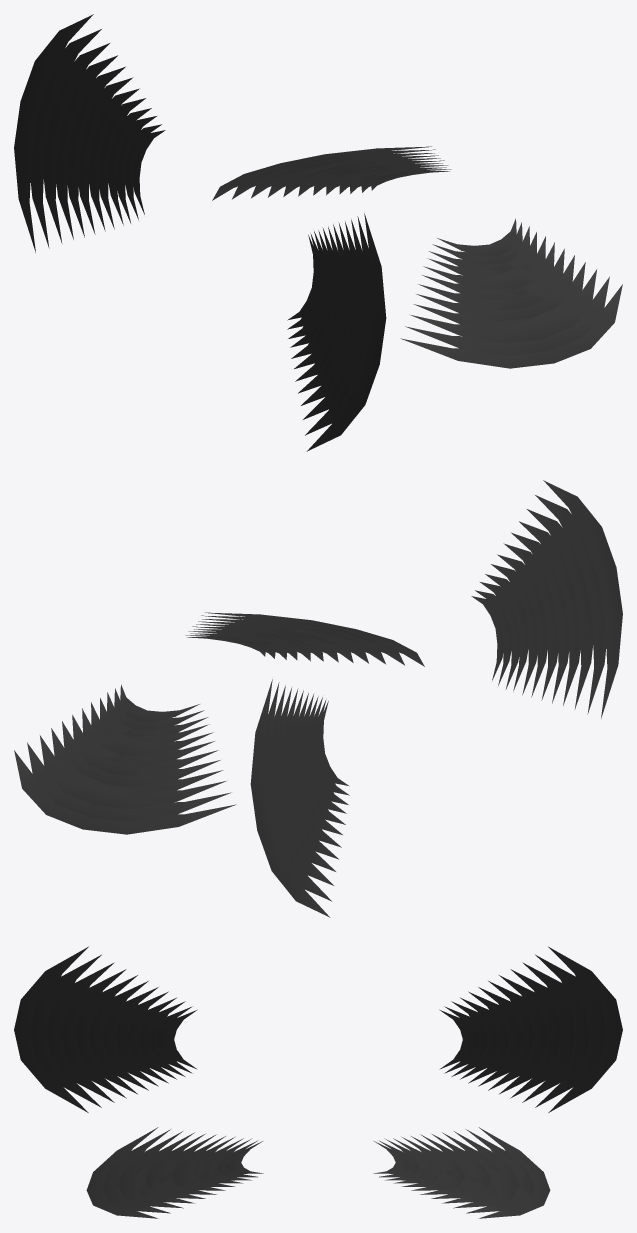
The model's file is StarterPackSoundwaves.glb.
3 views of the same model, one above another, from view 1: azimuth 30°, elevation 25°; view 2: azimuth 150°, elevation 25°; view 3: azimuth 270°, elevation 25° (orthographic). The views are drawn at different scales.
Parts seen in each view (by area): view 1: soundWaveEdge12, soundWaveEdge10, soundWaveEdge11, soundWaveEdge8, soundWaveEdge9, soundWaveEdge7, soundWaveEdge6, soundWaveEdge5, soundWaveEdge4, soundWaveEdge3, soundWaveEdge2, soundWaveEdge1; view 2: soundWaveEdge12, soundWaveEdge10, soundWaveEdge11, soundWaveEdge8, soundWaveEdge7, soundWaveEdge9, soundWaveEdge6, soundWaveEdge5, soundWaveEdge4, soundWaveEdge3, soundWaveEdge2, soundWaveEdge1; view 3: soundWaveEdge12, soundWaveEdge11, soundWaveEdge10, soundWaveEdge8, soundWaveEdge9, soundWaveEdge6, soundWaveEdge7, soundWaveEdge5, soundWaveEdge4, soundWaveEdge3, soundWaveEdge1, soundWaveEdge2.
Boxes of the visible parts, x1,y1,x2,y2 form: soundWaveEdge12: (14, 14, 622, 451); soundWaveEdge10: (43, 43, 596, 419); soundWaveEdge11: (30, 29, 609, 435); soundWaveEdge8: (68, 66, 574, 393); soundWaveEdge9: (56, 55, 585, 405); soundWaveEdge7: (78, 77, 564, 381); soundWaveEdge6: (89, 88, 554, 368); soundWaveEdge5: (99, 98, 545, 358); soundWaveEdge4: (108, 108, 536, 347); soundWaveEdge3: (117, 116, 529, 338); soundWaveEdge2: (125, 124, 522, 329); soundWaveEdge1: (133, 130, 516, 320); soundWaveEdge12: (14, 480, 622, 917); soundWaveEdge10: (40, 509, 593, 885); soundWaveEdge11: (27, 495, 606, 901); soundWaveEdge8: (62, 532, 568, 859); soundWaveEdge7: (72, 543, 558, 847); soundWaveEdge9: (51, 521, 580, 871); soundWaveEdge6: (82, 554, 547, 834); soundWaveEdge5: (91, 564, 537, 824); soundWaveEdge4: (100, 574, 528, 813); soundWaveEdge3: (107, 582, 519, 804); soundWaveEdge2: (114, 590, 511, 795); soundWaveEdge1: (120, 596, 503, 786); soundWaveEdge12: (14, 946, 622, 1218); soundWaveEdge11: (30, 954, 606, 1213); soundWaveEdge10: (46, 962, 590, 1208); soundWaveEdge8: (75, 975, 561, 1198); soundWaveEdge9: (61, 969, 575, 1203); soundWaveEdge6: (102, 987, 534, 1190); soundWaveEdge7: (89, 981, 547, 1194); soundWaveEdge5: (114, 991, 522, 1186); soundWaveEdge4: (127, 997, 509, 1183); soundWaveEdge3: (138, 1001, 498, 1180); soundWaveEdge1: (158, 1009, 478, 1173); soundWaveEdge2: (149, 1006, 487, 1177).
Bounding box in the file's own units: 7.61 × 4.59 × 13.23.
Materials: 1 (1 with a texture image).
